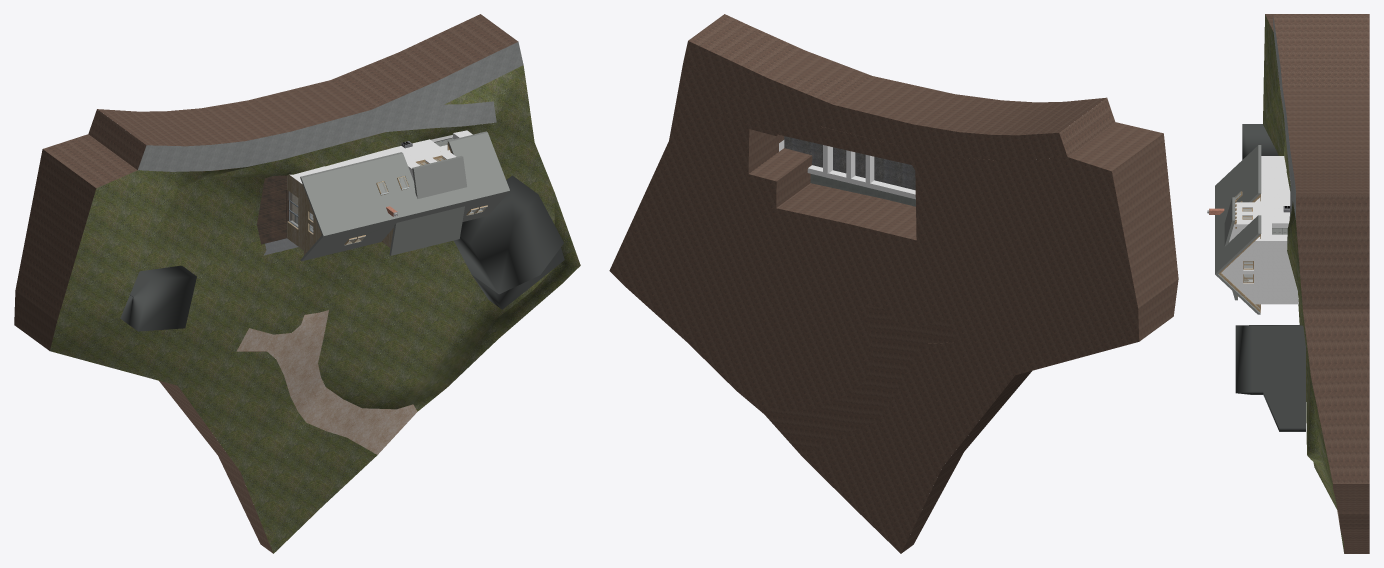
Rendered from roubenka.glb.
3 views of the same model, side by side, from view 1: azimuth 30°, elevation 25°; view 2: azimuth 150°, elevation 25°; view 3: azimuth 270°, elevation 25° (orthographic). The views are drawn at different scales.
Parts seen in each view (by area): view 1: Situace_-_terén_původní Trávník_-_hnědý SMOOTH_PART, Situace_-_terén_původní Zemina_-_hnědá SMOOTH_PART, Konstrukce_-_střechy Barva_23_-_světle_šedá, Situace_-_terén_původní Zemina_-_hnědá FLAT_PART, Konstrukce_-_schodiště Barva_23_-_světle_šedá SMOOTH_PART, Situace_-_terén_původní Beton_-_tmavý SMOOTH_PART, Situace_-_terén_původní Kamenivo_-_štěrk SMOOTH_PART, Konstrukce_-_svislé_nosné Štuk_-_bílý_hrubý, Konstrukce_-_svislé_nosné Dřevo_-_ořech_vodorovně, Konstrukce_-_svislé_nosné Podlaha_-_prkna_03; view 2: Situace_-_terén_původní Zemina_-_hnědá FLAT_PART, Situace_-_terén_původní Zemina_-_hnědá SMOOTH_PART, Konstrukce_-_svislé_nosné Beton_-_31, Konstrukce_-_svislé_nosné Štuk_-_bílý_hrubý, Konstrukce_-_vodorovné_nosné Beton_-_20; view 3: Situace_-_terén_původní Zemina_-_hnědá FLAT_PART, Situace_-_terén_původní Zemina_-_hnědá SMOOTH_PART, Konstrukce_-_schodiště Barva_23_-_světle_šedá SMOOTH_PART, Konstrukce_-_svislé_nosné Štuk_-_bílý_hrubý, Situace_-_terén_původní Trávník_-_hnědý SMOOTH_PART, Konstrukce_-_střechy Barva_23_-_světle_šedá, Situace_-_terén_původní Beton_-_tmavý SMOOTH_PART, Konstrukce_-_střechy Dřevo_-_borovice_vodorovně, Konstrukce_-_střechy Sklo_-_čiré_rychlé.
Part boxes in pixels (x1,y1,x2,y2): Situace_-_terén_původní Trávník_-_hnědý SMOOTH_PART: [50, 65, 580, 553]; Situace_-_terén_původní Zemina_-_hnědá SMOOTH_PART: [97, 26, 491, 553]; Konstrukce_-_střechy Barva_23_-_světle_šedá: [288, 131, 509, 261]; Situace_-_terén_původní Zemina_-_hnědá FLAT_PART: [14, 14, 518, 351]; Konstrukce_-_schodiště Barva_23_-_světle_šedá SMOOTH_PART: [120, 141, 564, 331]; Situace_-_terén_původní Beton_-_tmavý SMOOTH_PART: [138, 42, 523, 171]; Situace_-_terén_původní Kamenivo_-_štěrk SMOOTH_PART: [236, 310, 417, 454]; Konstrukce_-_svislé_nosné Štuk_-_bílý_hrubý: [289, 130, 480, 241]; Konstrukce_-_svislé_nosné Dřevo_-_ořech_vodorovně: [257, 175, 292, 244]; Konstrukce_-_svislé_nosné Podlaha_-_prkna_03: [287, 175, 393, 255]; Situace_-_terén_původní Zemina_-_hnědá FLAT_PART: [609, 14, 1178, 553]; Situace_-_terén_původní Zemina_-_hnědá SMOOTH_PART: [713, 26, 1106, 553]; Konstrukce_-_svislé_nosné Beton_-_31: [784, 136, 915, 190]; Konstrukce_-_svislé_nosné Štuk_-_bílý_hrubý: [779, 140, 915, 199]; Konstrukce_-_vodorovné_nosné Beton_-_20: [810, 174, 915, 206]; Situace_-_terén_původní Zemina_-_hnědá FLAT_PART: [1265, 14, 1369, 553]; Situace_-_terén_původní Zemina_-_hnědá SMOOTH_PART: [1273, 14, 1369, 514]; Konstrukce_-_schodiště Barva_23_-_světle_šedá SMOOTH_PART: [1235, 124, 1305, 431]; Konstrukce_-_svislé_nosné Štuk_-_bílý_hrubý: [1221, 156, 1298, 304]; Situace_-_terén_původní Trávník_-_hnědý SMOOTH_PART: [1263, 14, 1344, 553]; Konstrukce_-_střechy Barva_23_-_světle_šedá: [1215, 145, 1289, 314]; Situace_-_terén_původní Beton_-_tmavý SMOOTH_PART: [1273, 16, 1295, 219]; Konstrukce_-_střechy Dřevo_-_borovice_vodorovně: [1219, 191, 1260, 312]; Konstrukce_-_střechy Sklo_-_čiré_rychlé: [1235, 192, 1252, 282].
Size of the model in its own units: 57629 by 47928 by 15207.
34 materials, 34 textured.
